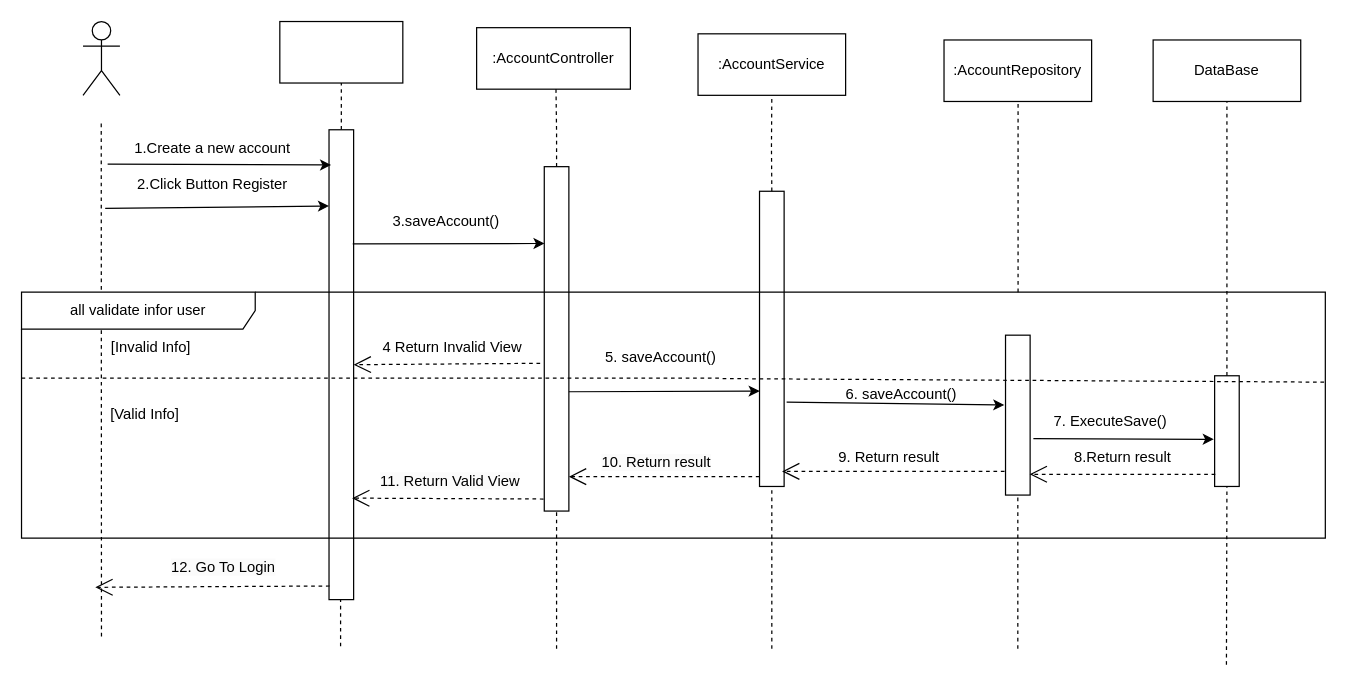
This 1351x688 diagram has some shape labels left out. The shapes that lost their labels are listed below. From the top down, each one's centre as x and y in pixels, then its label:
At point 101,57: "User".
At point 341,51: "View".
